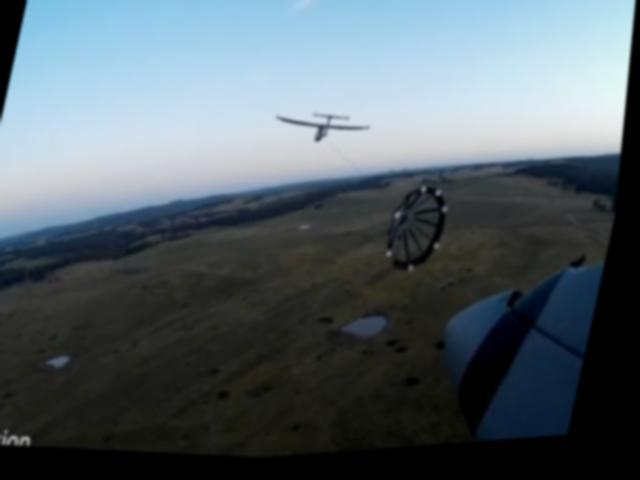uav: (271, 101, 382, 162)
